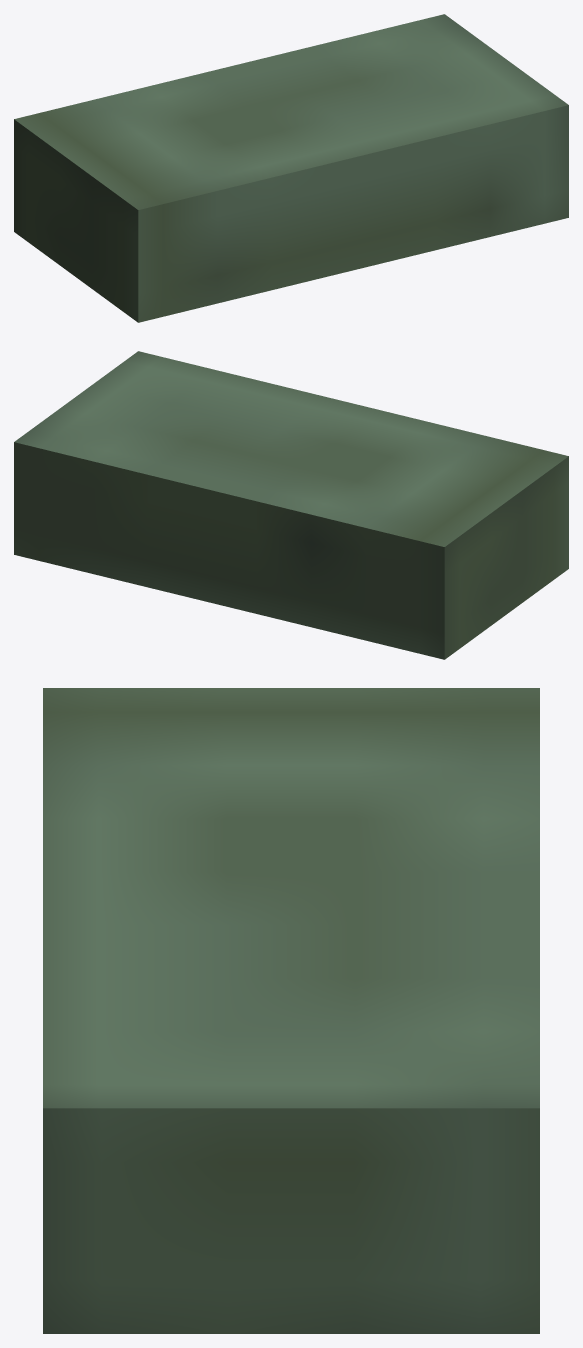
File: divider_8x8x2_type_01_green.fbx
3 renders of one model, top to bottom at view 1: azimuth 30°, elevation 25°; view 2: azimuth 150°, elevation 25°; view 3: azimuth 270°, elevation 25°, orthographic. The views are drawn at different scales.
Visible parts, largest first — view 1: divider_8x8x2_type_01_green; view 2: divider_8x8x2_type_01_green; view 3: divider_8x8x2_type_01_green.
Part boxes in pixels (bbox=[...]): divider_8x8x2_type_01_green: bbox=[14, 14, 568, 322]; divider_8x8x2_type_01_green: bbox=[14, 351, 568, 659]; divider_8x8x2_type_01_green: bbox=[43, 688, 539, 1333].
Bounding box in the file's own units: 8 × 2 × 4.
